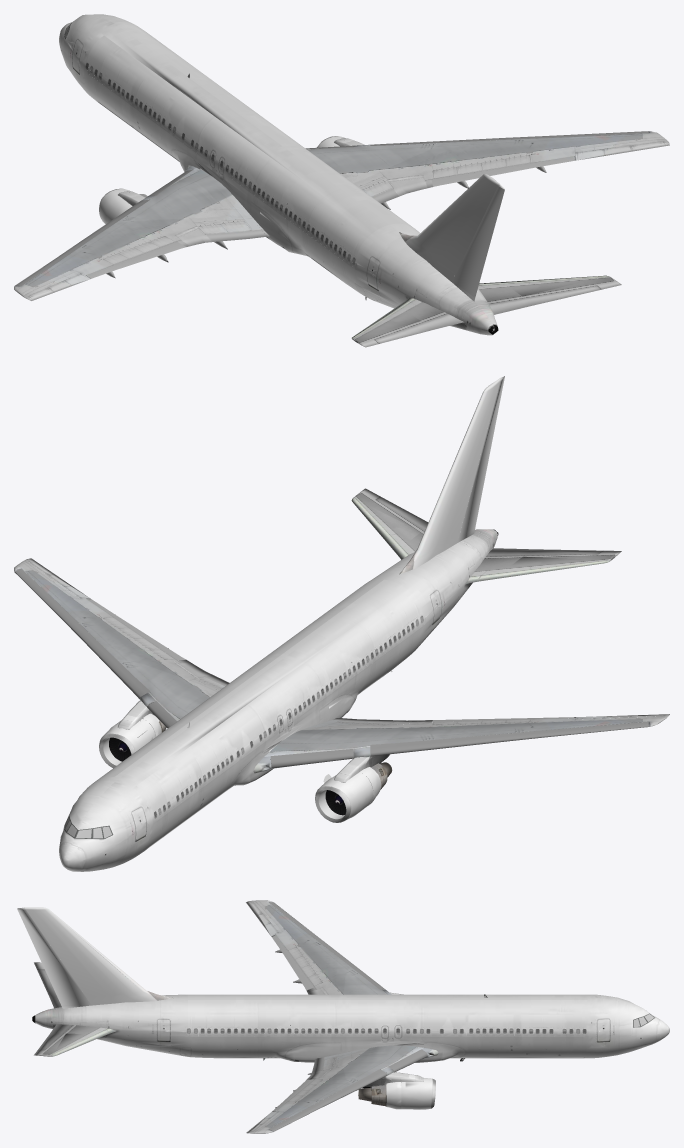
3 renders of one model, top to bottom at view 1: azimuth 30°, elevation 25°; view 2: azimuth 150°, elevation 25°; view 3: azimuth 270°, elevation 25°, orthographic. The views are drawn at different scales.
Parts seen in each view (by area): view 1: CylInternalTurbofan, enginerear, LdoorNoseGear, Rtrimpiece5, RpieceTurbofan; view 2: CylInternalTurbofan, enginerear, LdoorNoseGear, RpieceTurbofan, Rtrimpiece5; view 3: CylInternalTurbofan, enginerear, LdoorNoseGear, Rtrimpiece5, RpieceTurbofan.
Part boxes in pixels (<box>): CylInternalTurbofan: <box>59,14,498,335</box>; enginerear: <box>14,131,669,347</box>; LdoorNoseGear: <box>87,67,504,301</box>; Rtrimpiece5: <box>28,75,667,347</box>; RpieceTurbofan: <box>15,73,648,300</box>; CylInternalTurbofan: <box>59,529,498,871</box>; enginerear: <box>14,488,669,815</box>; LdoorNoseGear: <box>99,376,504,822</box>; RpieceTurbofan: <box>14,569,648,783</box>; Rtrimpiece5: <box>28,551,667,789</box>; CylInternalTurbofan: <box>32,994,669,1062</box>; enginerear: <box>34,900,438,1133</box>; LdoorNoseGear: <box>17,907,584,1109</box>; Rtrimpiece5: <box>34,901,487,1132</box>; RpieceTurbofan: <box>264,902,486,1131</box>.
Size of the model in its own units: 46.31 by 15.12 by 55.2.
Materials: 7 (7 with a texture image).
